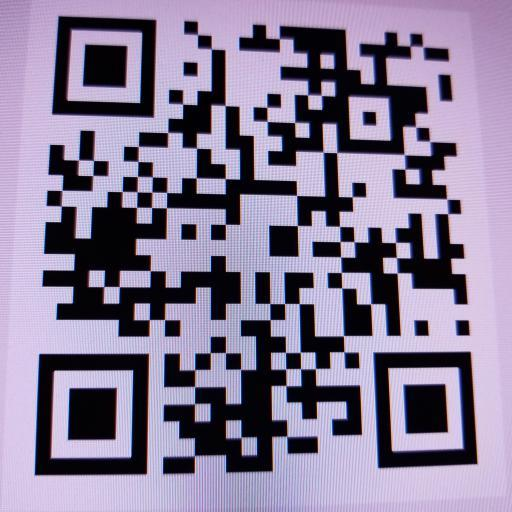qr_code: (34, 16, 478, 476)
